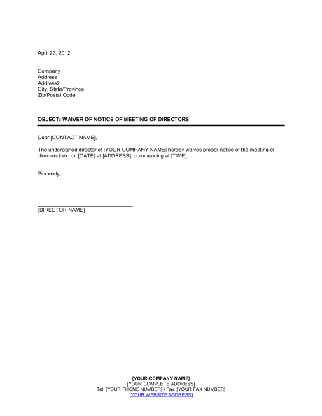textline: (34, 196, 137, 209)
